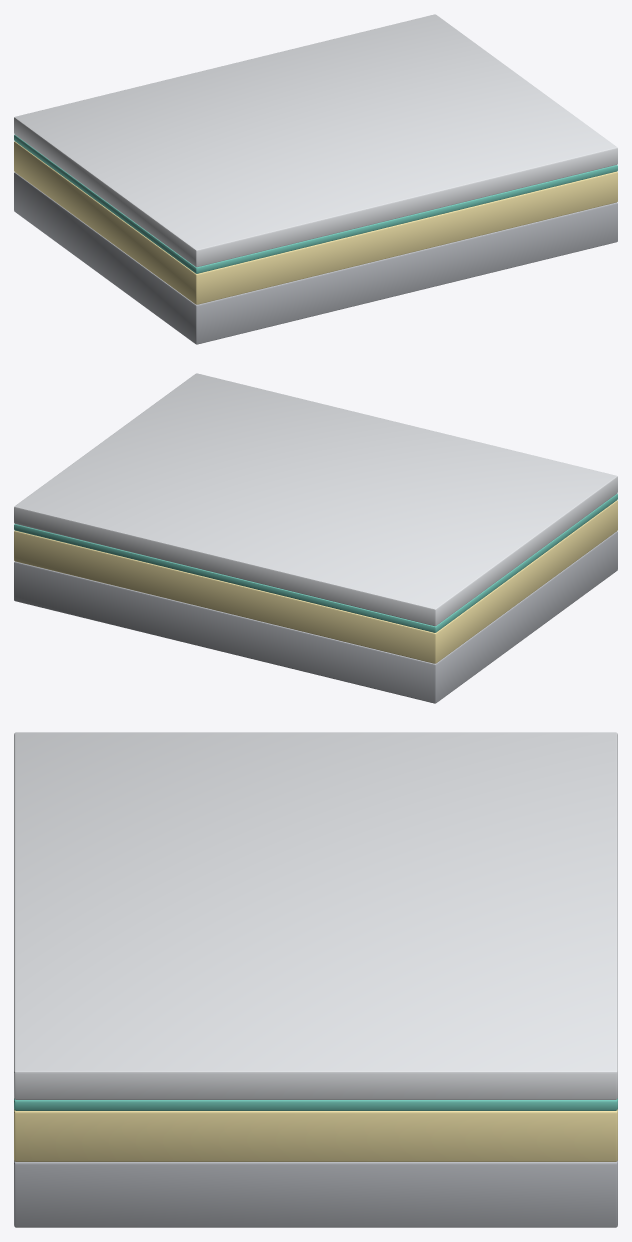
File: assembly.glb
3 renders of one model, top to bottom at view 1: azimuth 30°, elevation 25°; view 2: azimuth 150°, elevation 25°; view 3: azimuth 270°, elevation 25°, orthographic. The views are drawn at different scales.
Parts seen in each view (by area): view 1: layer_cladding, layer_structure, layer_insulation, layer_membrane; view 2: layer_cladding, layer_structure, layer_insulation, layer_membrane; view 3: layer_cladding, layer_structure, layer_insulation, layer_membrane.
Part boxes in pixels (left/top/right/bottom): layer_cladding: left=14, top=14, right=617, bottom=267; layer_structure: left=14, top=172, right=617, bottom=344; layer_insulation: left=14, top=141, right=617, bottom=304; layer_membrane: left=14, top=134, right=617, bottom=273; layer_cladding: left=14, top=373, right=617, bottom=626; layer_structure: left=14, top=531, right=617, bottom=703; layer_insulation: left=14, top=500, right=617, bottom=663; layer_membrane: left=14, top=493, right=617, bottom=632; layer_cladding: left=14, top=732, right=617, bottom=1099; layer_structure: left=14, top=1160, right=617, bottom=1227; layer_insulation: left=14, top=1109, right=617, bottom=1161; layer_membrane: left=14, top=1098, right=617, bottom=1110.
Bounding box in the file's own units: 4 × 0.8599 × 3.
